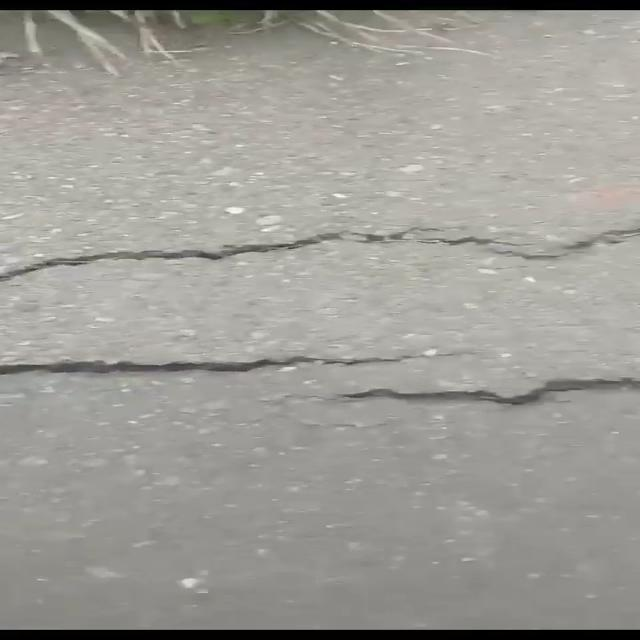Melintang: (0, 208, 640, 293), (0, 344, 420, 384), (322, 361, 640, 412)
